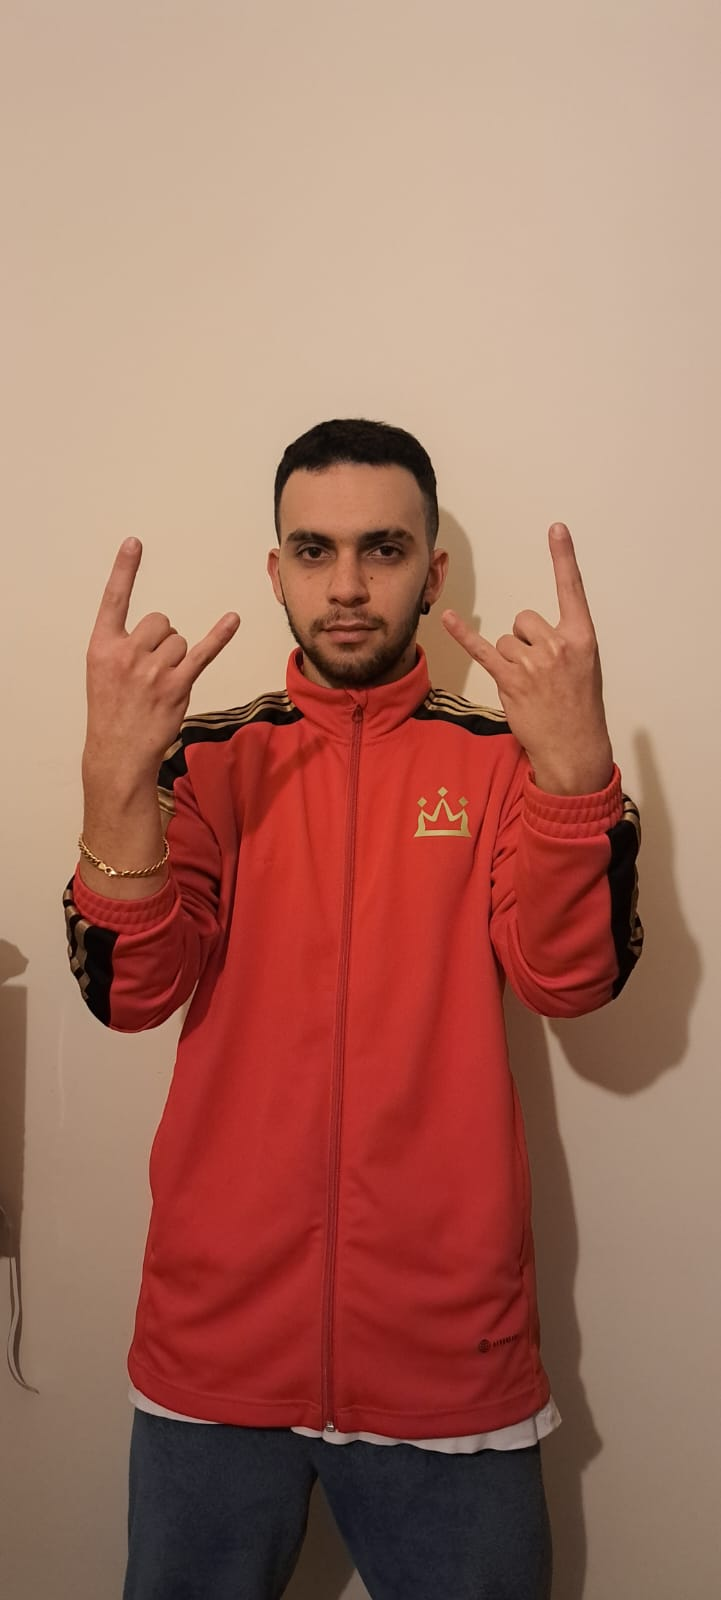rock: (58, 515, 600, 798)
